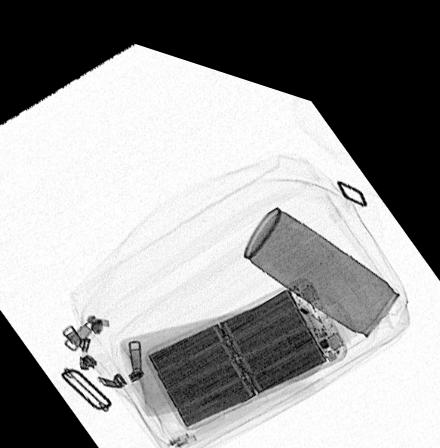Powerbank: (142, 257, 346, 418)
